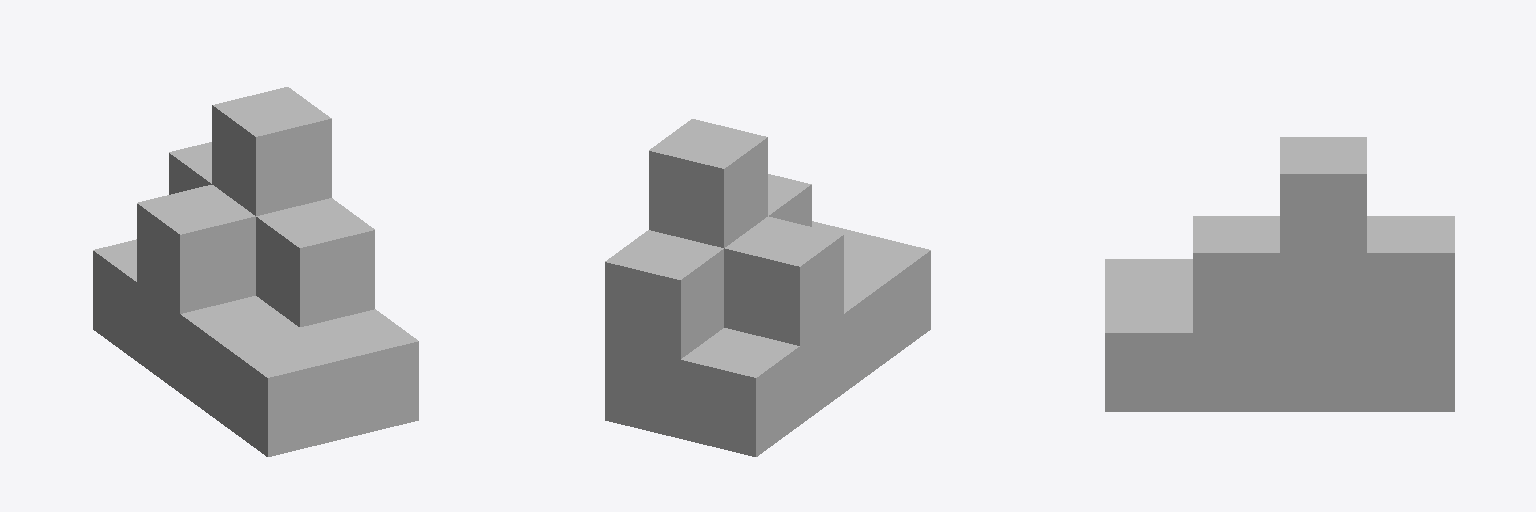
Rendered from tierrarenisca.obj.
The picture shows the model from 3 angles: view 1: azimuth 30°, elevation 25°; view 2: azimuth 150°, elevation 25°; view 3: azimuth 270°, elevation 25°; orthographic projection.
Visible parts, largest first — view 1: Cube.011; view 2: Cube.011; view 3: Cube.011.
Part boxes in pixels (x1,y1,x2,y2): Cube.011: (93,87,418,456); Cube.011: (605,119,930,456); Cube.011: (1105,137,1454,411).
Bounding box in the file's own units: 4 × 6 × 8.